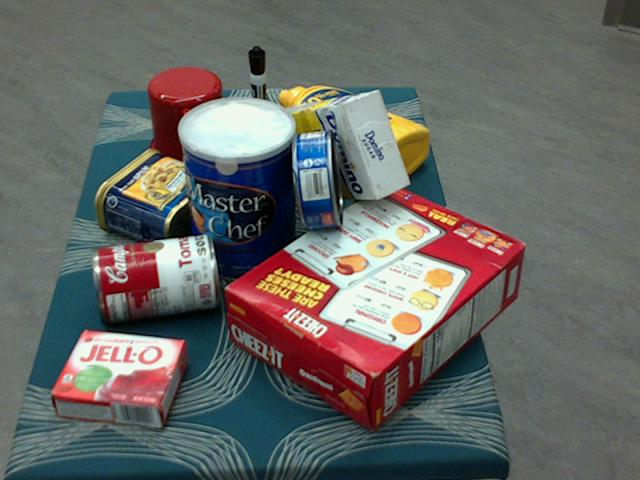cracker_box: (223, 181, 525, 428)
gelatin_box: (51, 328, 187, 427)
large_marker: (247, 46, 269, 149)
master_chef_can: (177, 99, 296, 284)
mug: (146, 67, 232, 168)
mustard_bottle: (277, 84, 428, 186)
potted_meat_can: (94, 148, 223, 250)
sugar_box: (263, 91, 408, 200)
tomato_soup_can: (91, 235, 217, 321)
tuna_fish_can: (293, 128, 343, 227)
